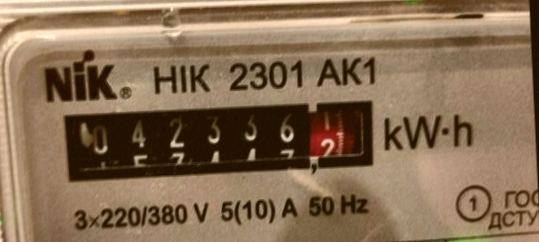0: (88, 123, 108, 157)
1: (317, 107, 330, 133)
2: (163, 115, 186, 150), (316, 138, 334, 159)
3: (200, 113, 220, 146), (239, 111, 258, 144)
4: (127, 117, 146, 150)
6: (274, 111, 296, 146)
screen: (49, 87, 387, 194)
